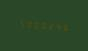five: (17, 17, 23, 29)
four: (52, 20, 58, 32)
six: (59, 21, 65, 32)
two: (45, 20, 51, 31)
zero: (31, 18, 37, 30), (38, 19, 44, 31), (24, 18, 30, 29)
